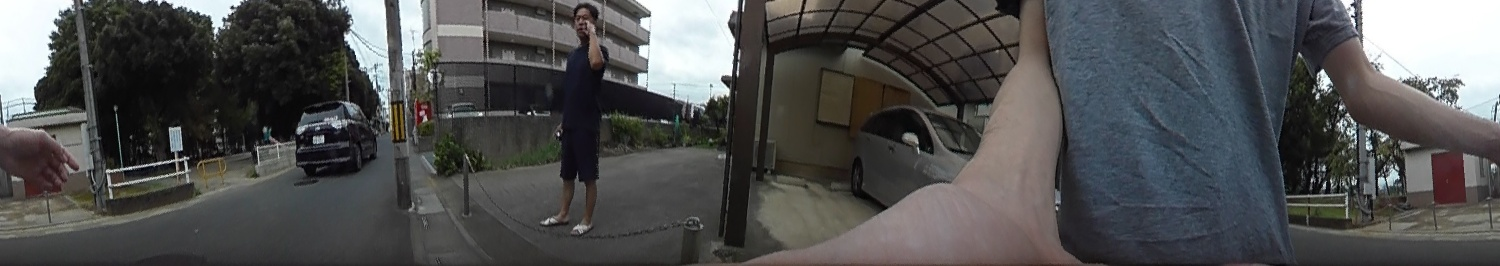person: (545, 1, 609, 238)
